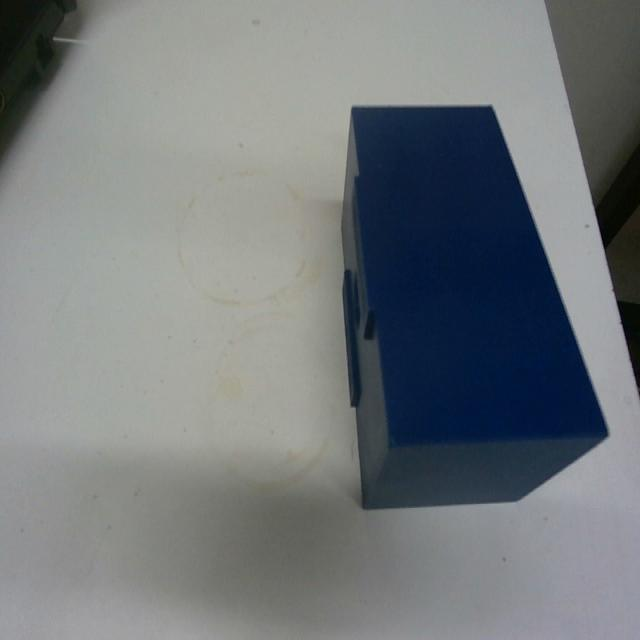Blue Cuboid: (338, 100, 610, 511)
